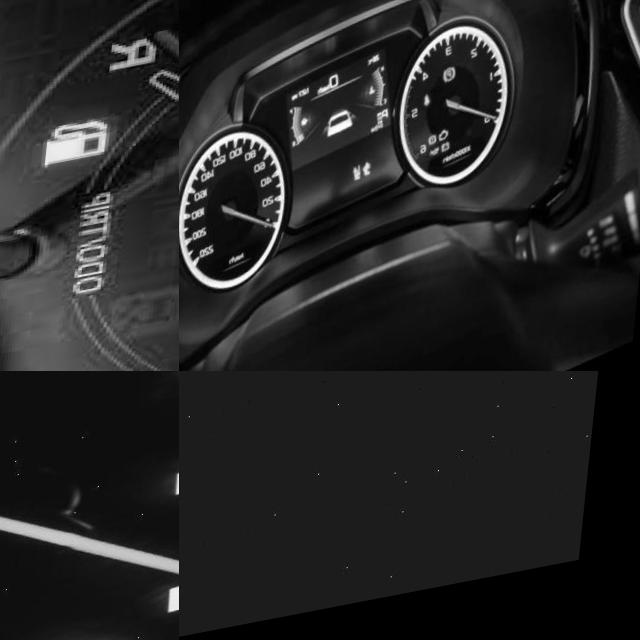Seat Belt: (429, 109, 438, 124)
